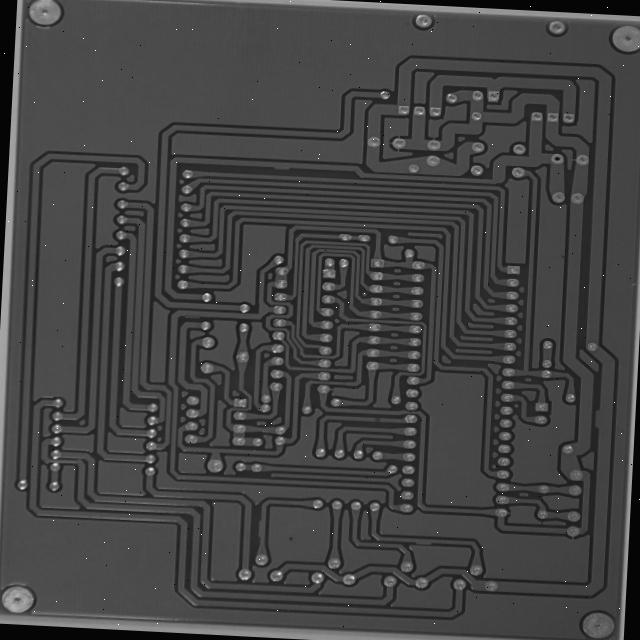spur: (285, 508, 300, 535), (303, 126, 331, 138), (204, 288, 226, 298), (465, 533, 488, 542)
